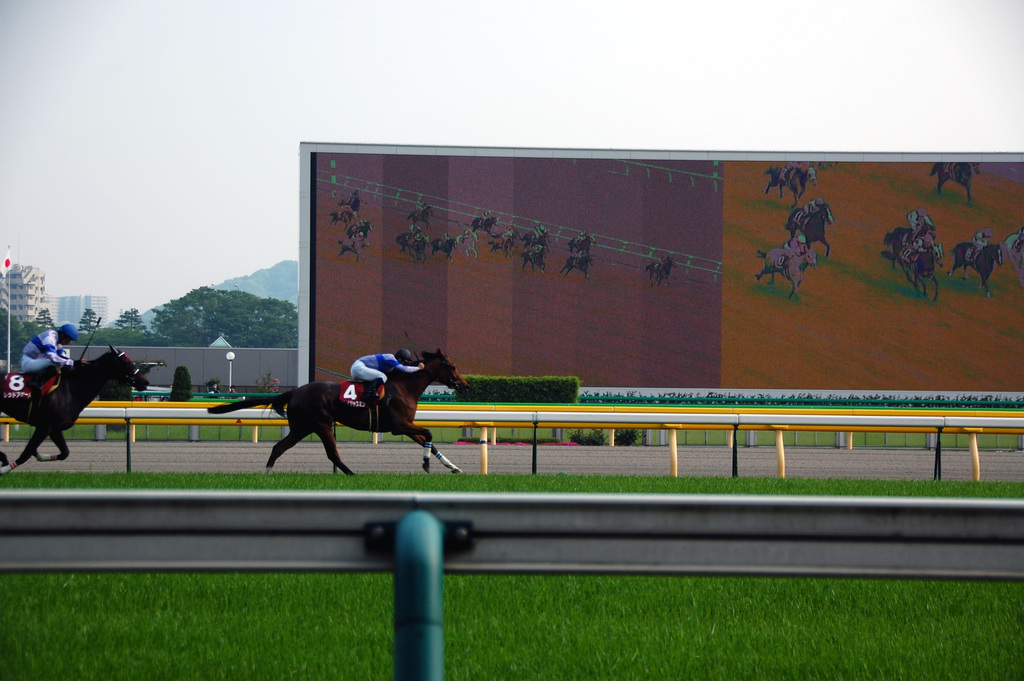horse: (754, 246, 819, 299)
